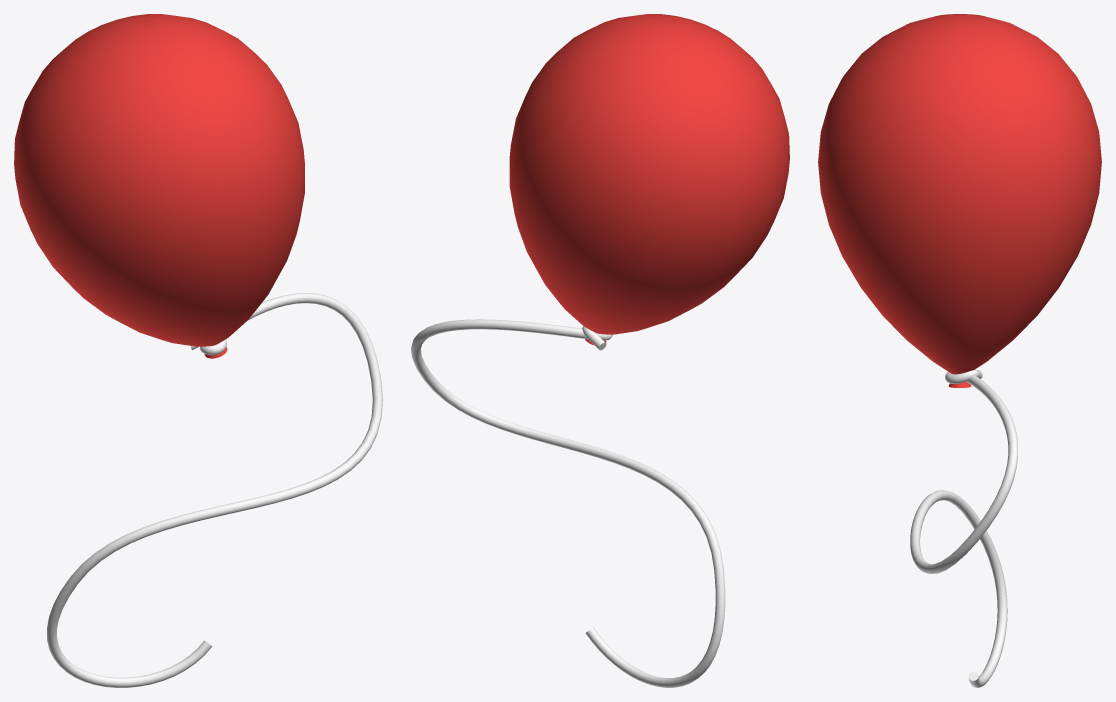
The model's file is balloon.glb.
3 views of the same model, side by side, from view 1: azimuth 30°, elevation 25°; view 2: azimuth 150°, elevation 25°; view 3: azimuth 270°, elevation 25° (orthographic). The views are drawn at different scales.
Parts seen in each view (by area): view 1: Sphere.514, BezierCurve.006; view 2: Sphere.514, BezierCurve.006; view 3: Sphere.514, BezierCurve.006.
Part boxes in pixels (left/top/right/bottom): Sphere.514: left=14, top=14, right=304, bottom=358; BezierCurve.006: left=47, top=293, right=382, bottom=687; Sphere.514: left=509, top=14, right=789, bottom=345; BezierCurve.006: left=411, top=319, right=725, bottom=687; Sphere.514: left=818, top=14, right=1101, bottom=387; BezierCurve.006: left=910, top=369, right=1017, bottom=687.
Bounding box in the file's own units: 1.31 × 2.34 × 0.9235.
Materials: 1 (1 with a texture image).
